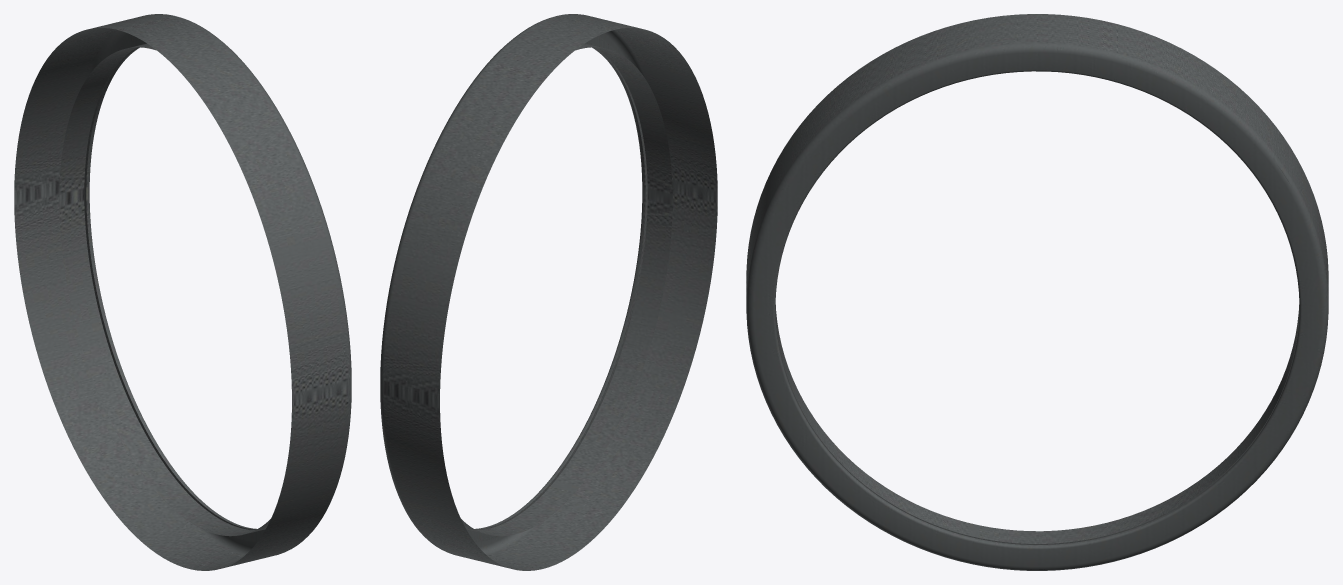
Rendered from WallClock.glb.
3 views of the same model, side by side, from view 1: azimuth 30°, elevation 25°; view 2: azimuth 150°, elevation 25°; view 3: azimuth 270°, elevation 25° (orthographic). The views are drawn at different scales.
Parts seen in each view (by area): view 1: WallClock; view 2: WallClock; view 3: WallClock.
Part boxes in pixels (<box>): WallClock: <box>14,14,351,570</box>; WallClock: <box>380,14,717,570</box>; WallClock: <box>746,14,1328,570</box>.
Size of the model in its own units: 0.42 by 3.23 by 3.23.
Materials: 1 (1 with a texture image).
